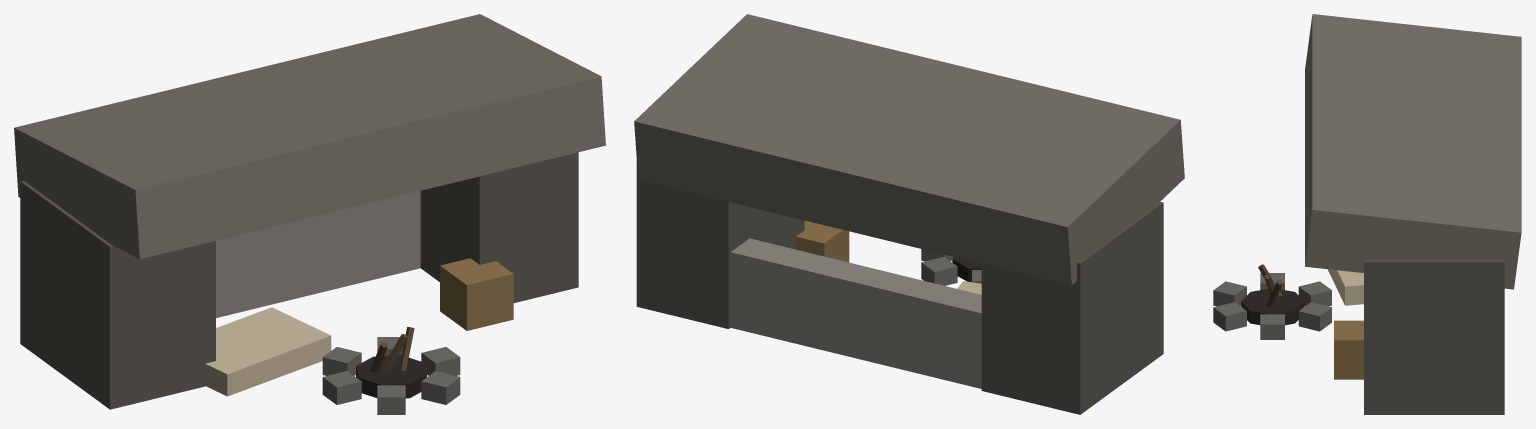
The model's file is S_RockShelter.glb.
The picture shows the model from 3 angles, left to right: view 1: azimuth 30°, elevation 25°; view 2: azimuth 150°, elevation 25°; view 3: azimuth 270°, elevation 25°; orthographic projection. The views are drawn at different scales.
Visible parts, largest first — view 1: S_RockShelter; view 2: S_RockShelter; view 3: S_RockShelter.
Boxes of the visible parts, x1=… form: S_RockShelter: x1=14, y1=14, x2=605, y2=414; S_RockShelter: x1=634, y1=14, x2=1184, y2=414; S_RockShelter: x1=1213, y1=14, x2=1521, y2=414.
Size of the model in its own units: 6.75 by 3.18 by 4.39.
